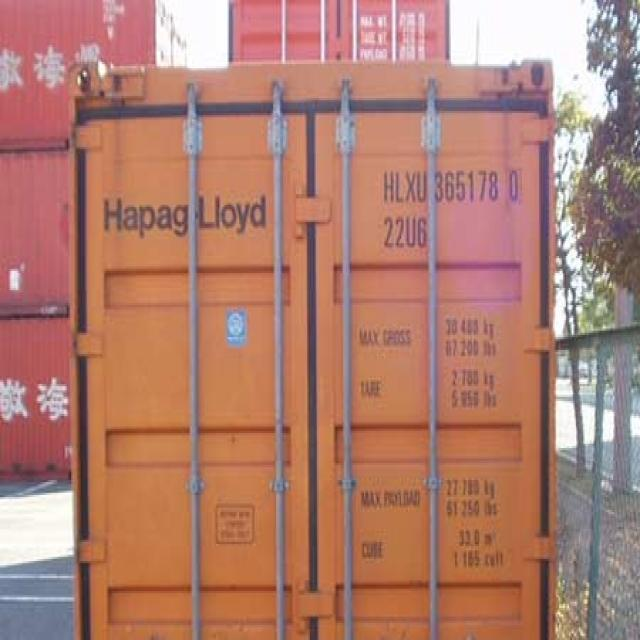container_number_h: (359, 158, 533, 279)
